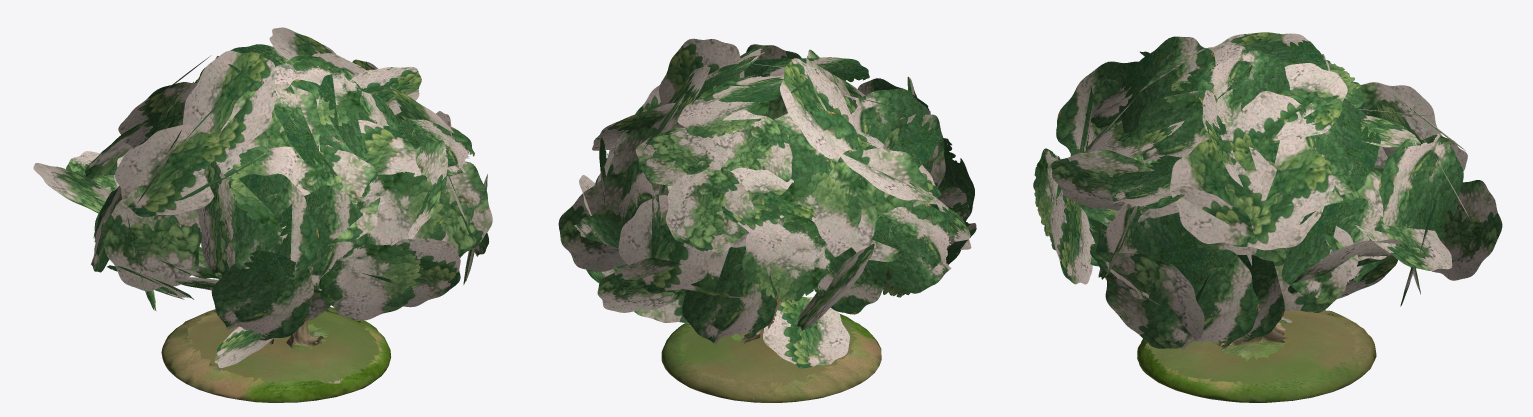
Rendered from Whispering_Blossom_Tr.fbx.
The picture shows the model from 3 angles, left to right: view 1: azimuth 30°, elevation 25°; view 2: azimuth 150°, elevation 25°; view 3: azimuth 270°, elevation 25°; orthographic projection. The views are drawn at different scales.
Parts seen in each view (by area): view 1: Whispering_Blossom_Tr_LOD0; view 2: Whispering_Blossom_Tr_LOD0; view 3: Whispering_Blossom_Tr_LOD0.
Boxes of the visible parts, bbox=[...] form: Whispering_Blossom_Tr_LOD0: bbox=[33, 27, 492, 402]; Whispering_Blossom_Tr_LOD0: bbox=[558, 38, 976, 402]; Whispering_Blossom_Tr_LOD0: bbox=[1033, 32, 1502, 402].
Size of what is drawn, in the model's own units: 1.9 by 1.48 by 2.05.
2 materials, 2 textured.
